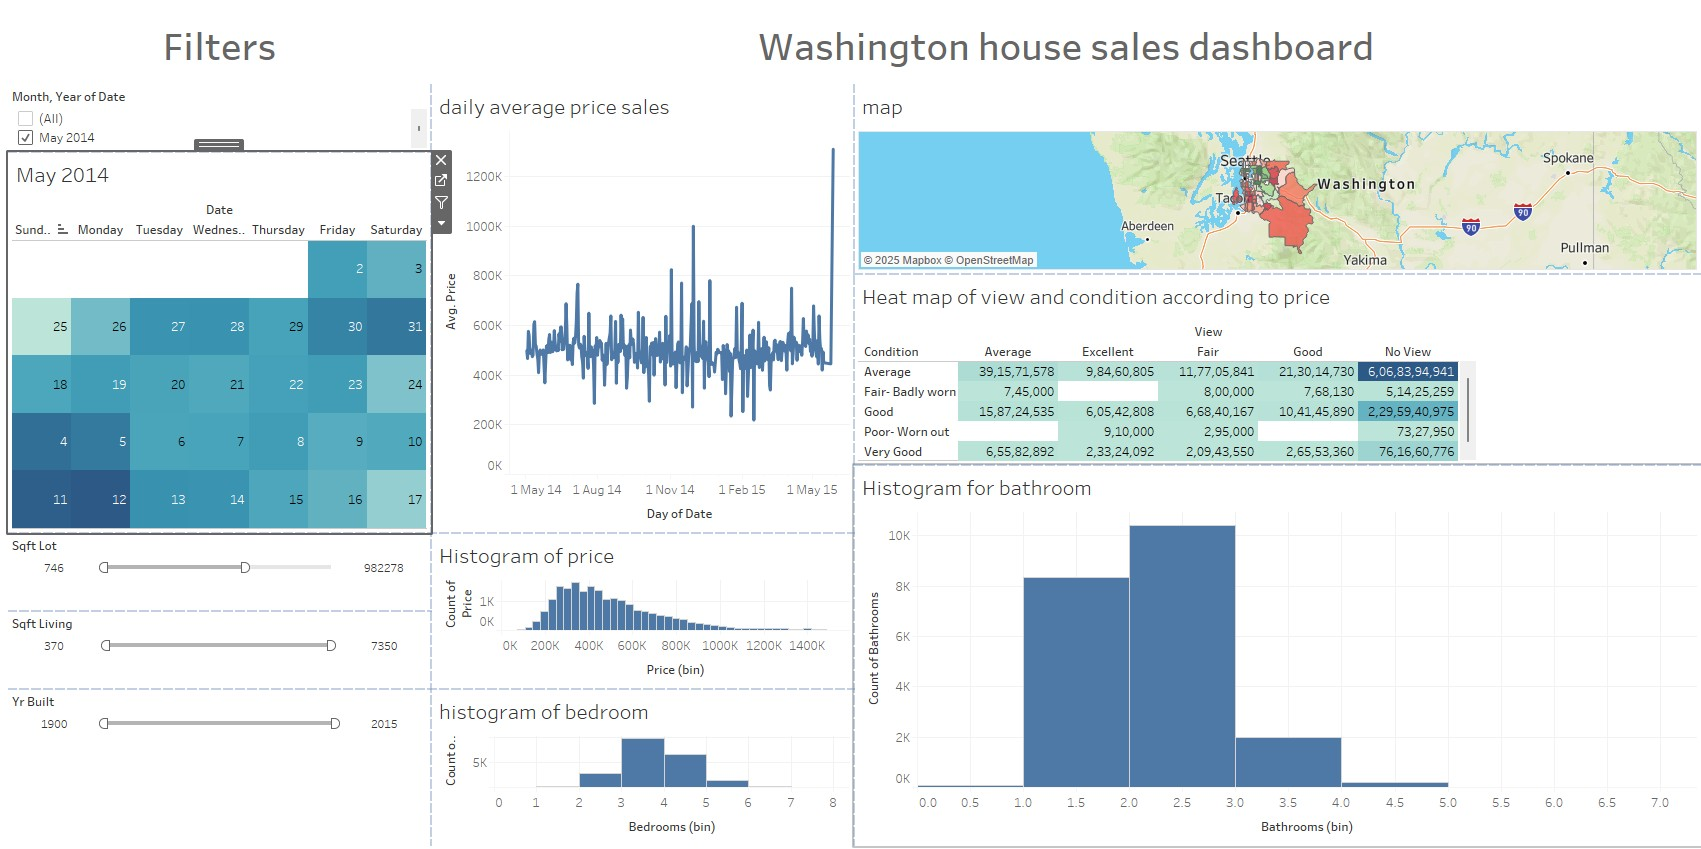

What the dashboard file says about the page in this screenshot:
{"tool":"tableau","page":{"name":"Dashboard 1","canvas":[1000,1000],"units":"permille","ordinal":0},"visuals":[{"type":"text","box":[4.7,9.3,247.5,91.1]},{"type":"text","box":[252.2,9.3,743.1,91.1]},{"type":"filter","title":"Sheet 7","param":"[federated.13800iz0mopfjk11o6pct1u9cdjy].[my:date:ok]","box":[4.7,100.5,247.6,79.5]},{"type":"worksheet","title":"Sheet 1","mark":"Automatic","rows":["price"],"cols":["date"],"box":[252.3,100.5,247.7,524.5]},{"type":"worksheet","title":"Sheet 2","mark":"Automatic","box":[500,100.5,495.4,222.5]},{"type":"worksheet","title":"Sheet 7","mark":"Square","rows":["date"],"cols":["date"],"box":[4.7,179.9,247.6,445.1]},{"type":"worksheet","title":"Sheet 6","mark":"Square","rows":["condition"],"cols":["view"],"box":[500,323,495.4,222.6]},{"type":"worksheet","title":"Sheet 5","mark":"Automatic","rows":["bathrooms"],"cols":["Bathrooms (bin)"],"box":[500,545.6,495.4,445.1]},{"type":"filter","title":"Sheet 7","param":"[federated.13800iz0mopfjk11o6pct1u9cdjy].[none:sqft_lot:qk]","box":[4.7,625,247.6,91.4]},{"type":"worksheet","title":"Sheet 3","mark":"Automatic","rows":["price"],"cols":["Price (bin)"],"box":[252.3,625,247.7,182.8]},{"type":"filter","title":"Sheet 7","param":"[federated.13800iz0mopfjk11o6pct1u9cdjy].[none:sqft_living:qk]","box":[4.7,716.4,247.6,91.4]},{"type":"filter","title":"Sheet 7","param":"[federated.13800iz0mopfjk11o6pct1u9cdjy].[none:yr_built:qk]","box":[4.7,807.8,247.6,182.8]},{"type":"worksheet","title":"Sheet 4","mark":"Automatic","rows":["bedrooms"],"cols":["Bedrooms (bin)"],"box":[252.3,807.8,247.7,182.8]}]}

Visuals, with their boxes on the dashboard's canvas, which has no fixed pixel size, in thousandths of its width and height (x1, y1, x2, y2). These are canvas units, not pixel positions in the 1701x849 screenshot, which may show the page scaled, cropped or inside an application window:
text: [x1=5, y1=9, x2=252, y2=100]
text: [x1=252, y1=9, x2=995, y2=100]
"Sheet 7" filter: [x1=5, y1=100, x2=252, y2=180]
"Sheet 1" worksheet: [x1=252, y1=100, x2=500, y2=625]
"Sheet 2" worksheet: [x1=500, y1=100, x2=995, y2=323]
"Sheet 7" worksheet (Square marks): [x1=5, y1=180, x2=252, y2=625]
"Sheet 6" worksheet (Square marks): [x1=500, y1=323, x2=995, y2=546]
"Sheet 5" worksheet: [x1=500, y1=546, x2=995, y2=991]
"Sheet 7" filter: [x1=5, y1=625, x2=252, y2=716]
"Sheet 3" worksheet: [x1=252, y1=625, x2=500, y2=808]
"Sheet 7" filter: [x1=5, y1=716, x2=252, y2=808]
"Sheet 7" filter: [x1=5, y1=808, x2=252, y2=991]
"Sheet 4" worksheet: [x1=252, y1=808, x2=500, y2=991]
